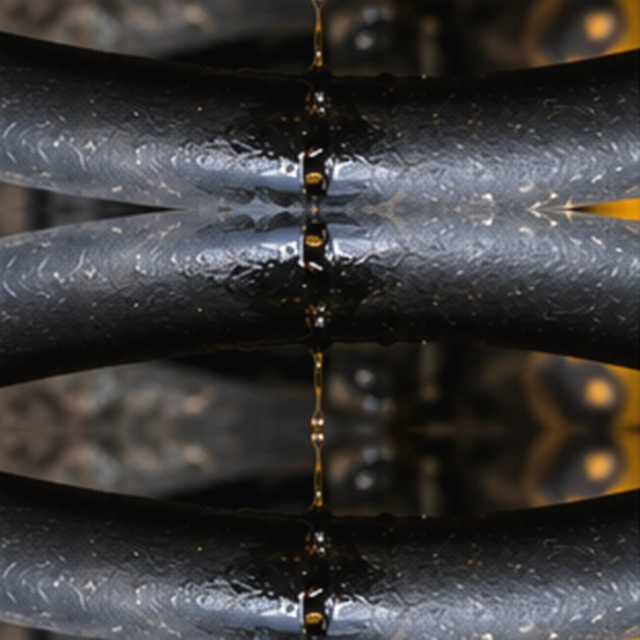hydraulic_oil_leak: (228, 219, 430, 429)
